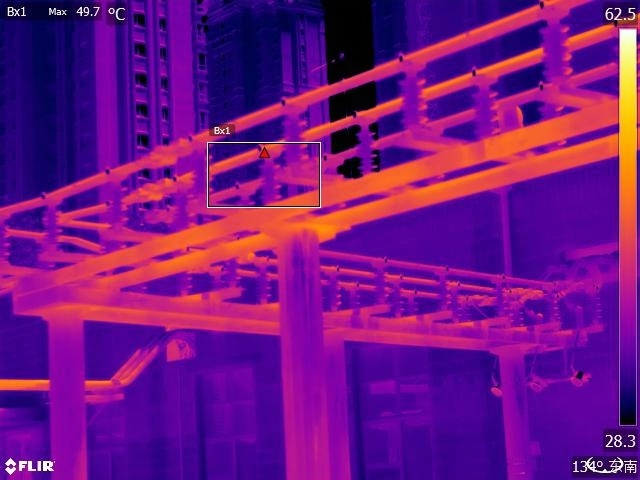post insulator: (399, 73, 432, 139), (470, 79, 502, 144), (542, 17, 574, 82), (100, 177, 132, 237), (279, 106, 309, 168), (189, 139, 215, 194), (354, 122, 379, 178), (40, 205, 66, 256), (259, 154, 281, 209), (169, 182, 190, 234), (254, 258, 272, 306), (220, 251, 243, 287), (492, 278, 511, 321), (325, 268, 342, 315), (375, 261, 391, 308), (432, 273, 450, 313), (1, 222, 16, 264), (546, 290, 561, 329), (390, 275, 403, 311), (347, 284, 361, 309)
